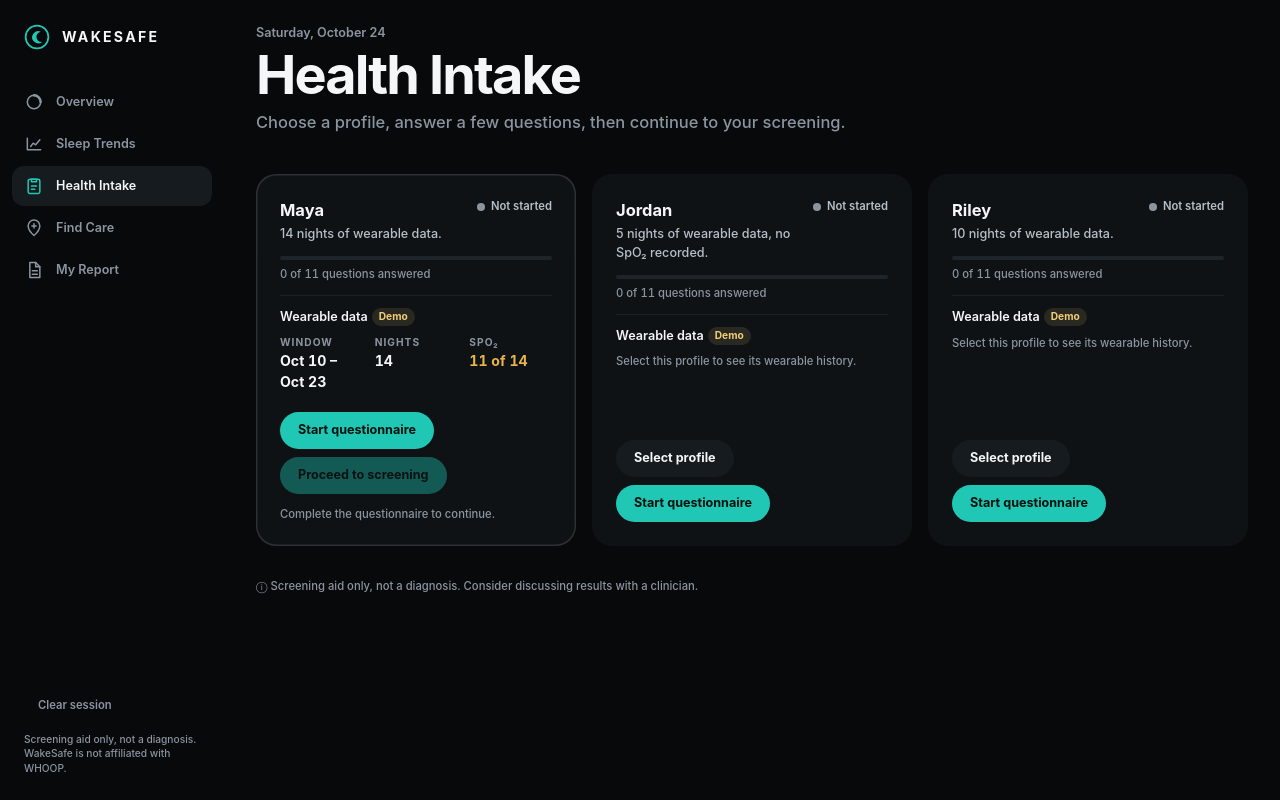
screening hand-off › shows missing SpO2 honestly for a profile with no SpO2 nights
Expected: the heading "Jordan" is shown, top-left (616, 200), bottom-right (672, 220)
Click the button "Select profile" below "Jordan" at (675, 459), box top-left (616, 440), bottom-right (734, 477)
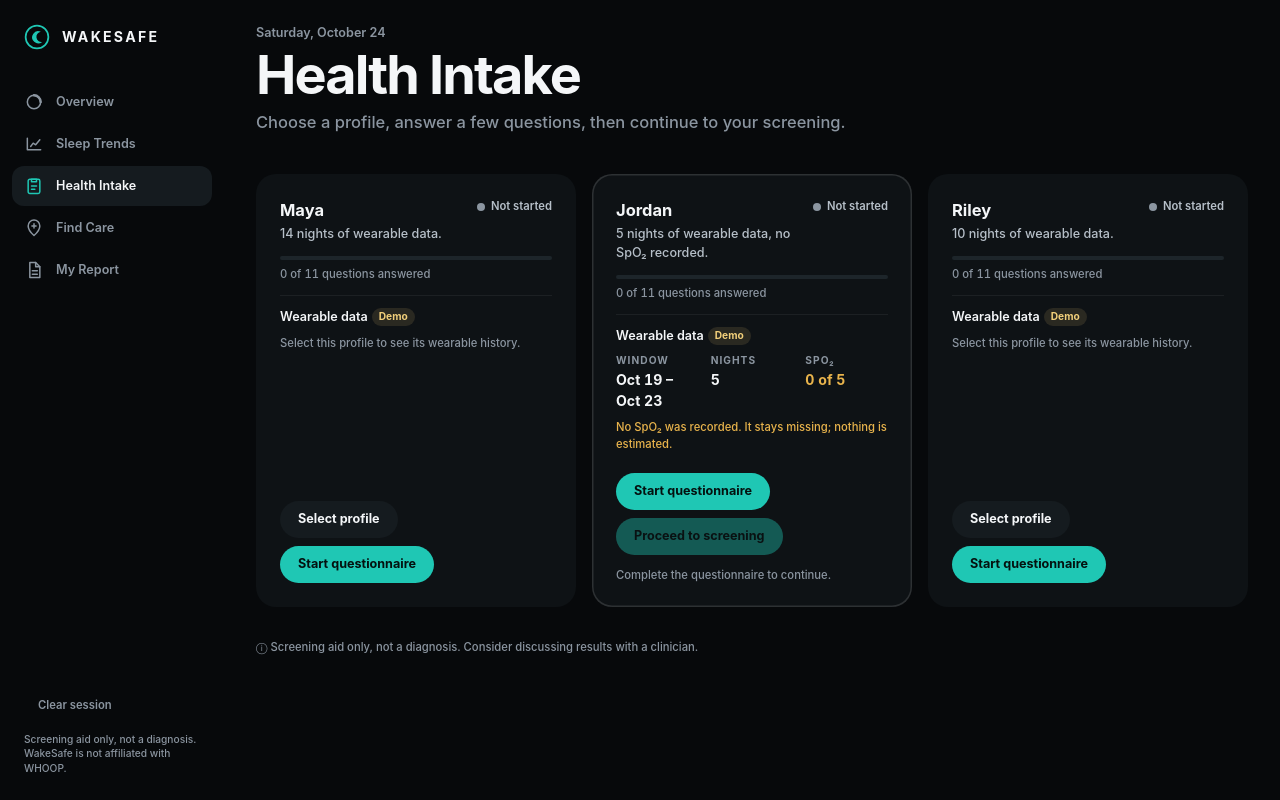
Now the text "No SpO₂ was recorded" is shown, box top-left (616, 420), bottom-right (887, 451)
